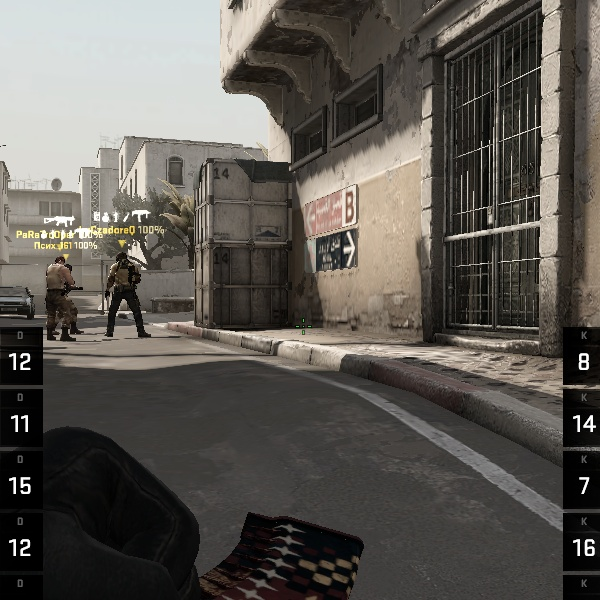t_body: (100, 249, 148, 337), (39, 254, 84, 340)
t_head: (115, 251, 129, 264), (54, 255, 66, 266)
